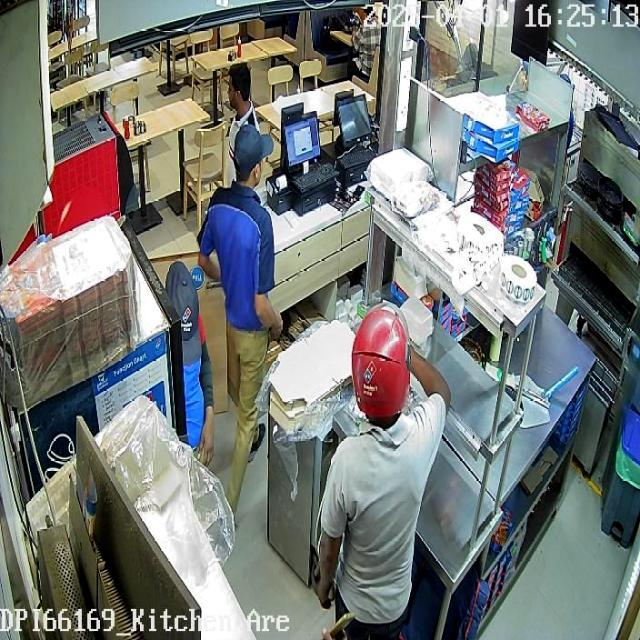helmet: (351, 301, 411, 429)
no_helmet: (234, 124, 274, 188), (227, 63, 251, 117)
